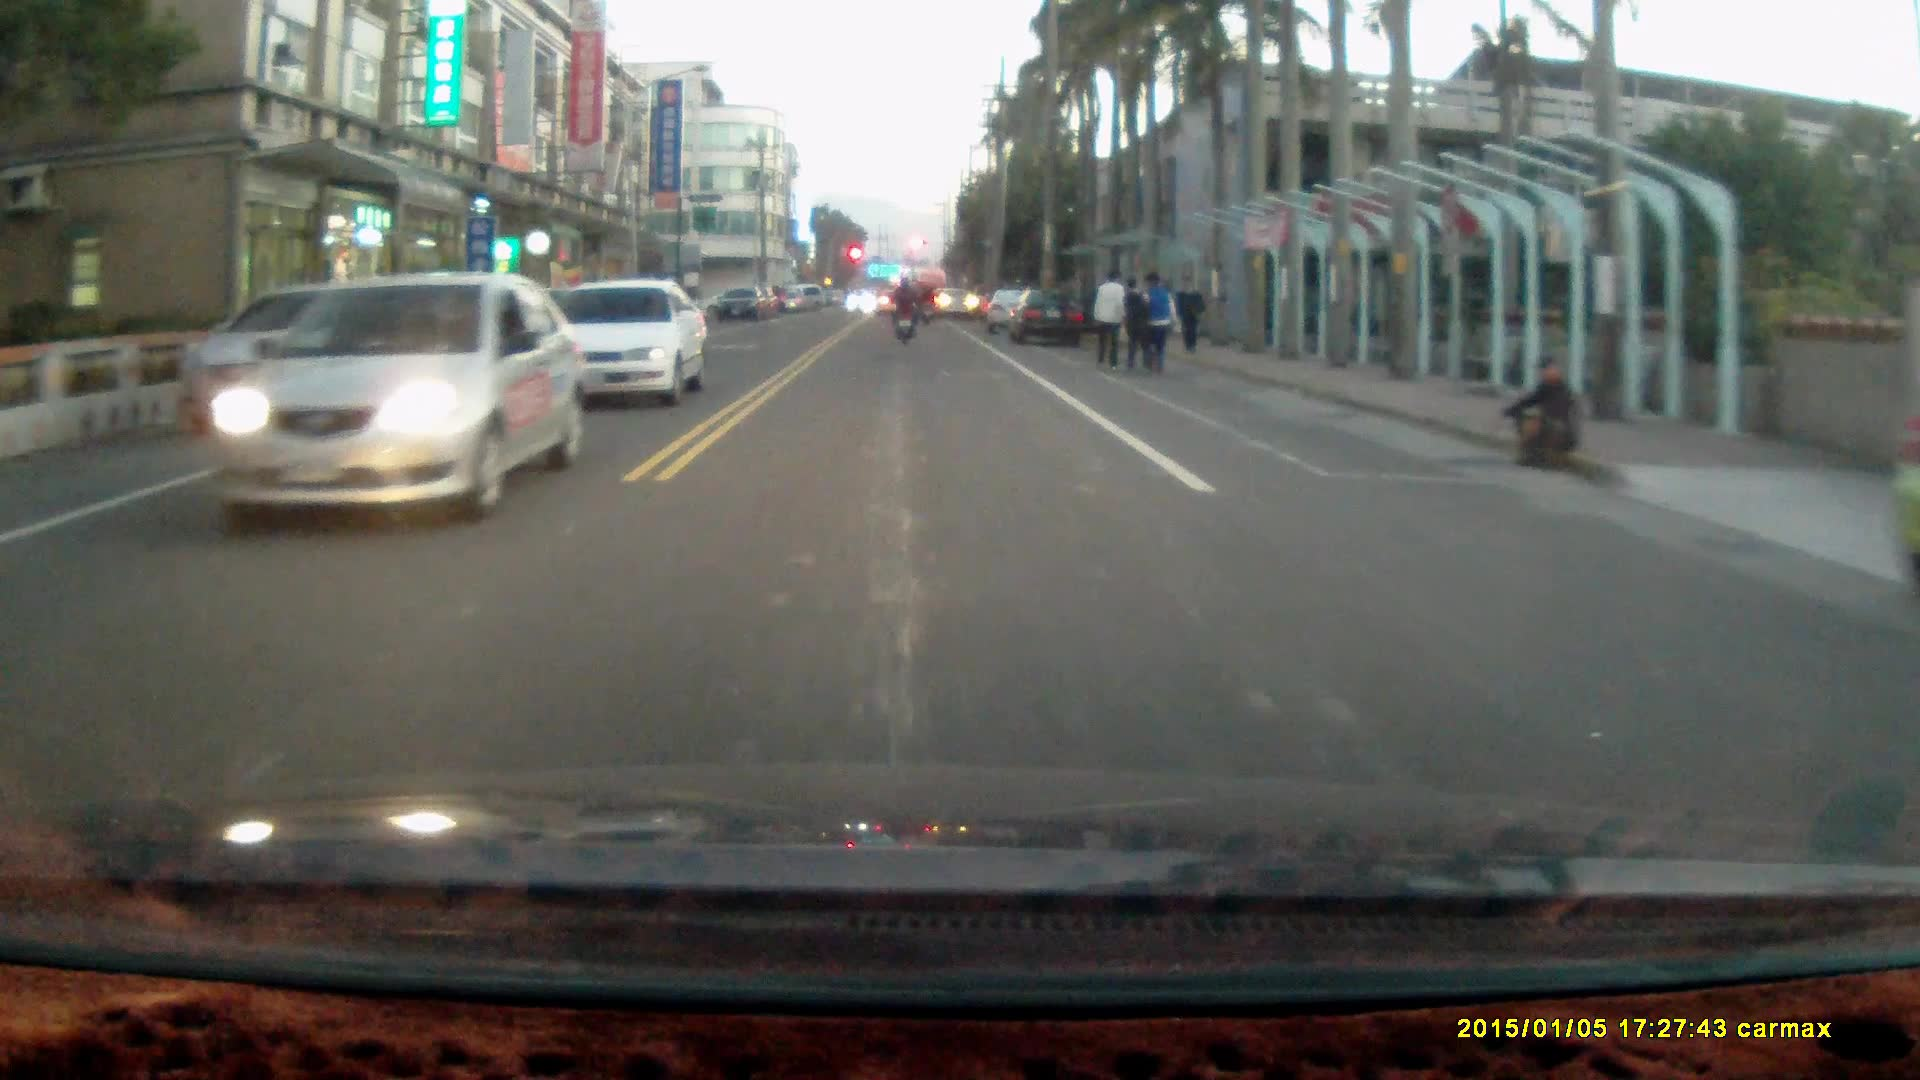pedestrian: (1498, 356, 1582, 473), (1131, 269, 1179, 374), (1090, 266, 1125, 372), (1118, 274, 1151, 371), (1169, 269, 1204, 352)
rider: (886, 274, 919, 347)
vehicle: (188, 271, 578, 529), (549, 278, 712, 411), (1003, 290, 1088, 345)
